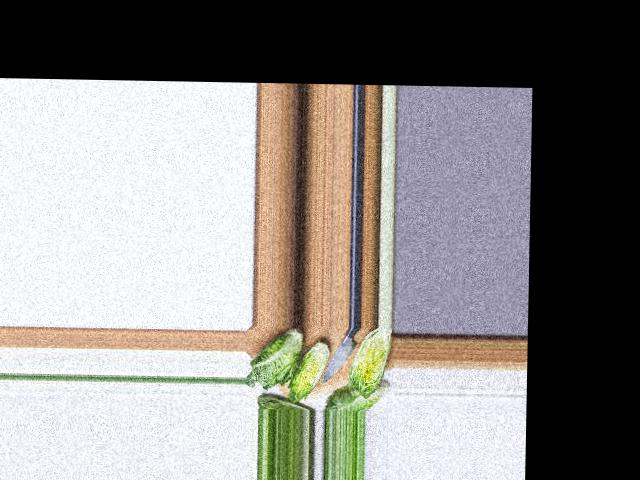lettuce: (326, 381, 388, 408)
